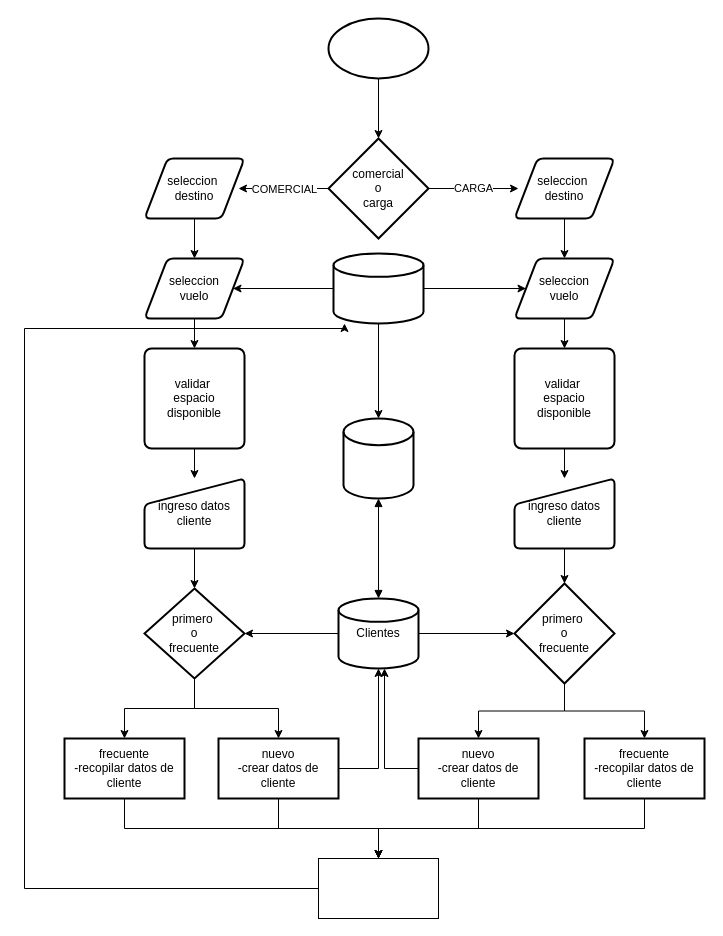
This 723x936 diagram has some shape labels left out. Here are the shapes that lost their labels. From the top down, the centre of each, then its label:
At [378,48]: "abres app".
At [378,288]: "vuelos programados".
At [378,458]: "vuelos realizados".
At [378,888]: "generar reservacion en vuelo".
